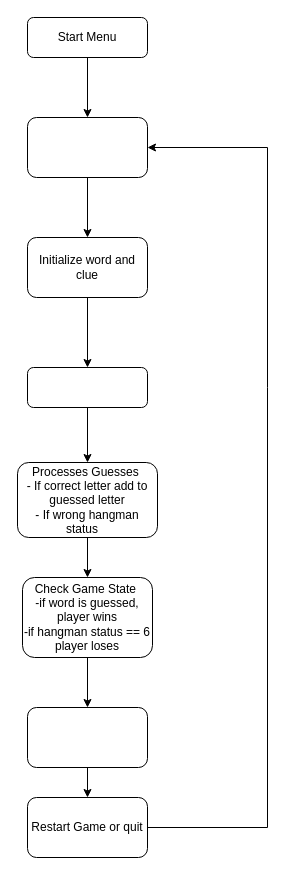
The diagram is 293 pixels wide and 875 high, and some of its shapes have lost their labels. Here are the shapes that lost their labels. From the top down, the box of each, then its label:
(26, 116, 148, 178): Select Difficulty Easy, Medium, hard
(26, 366, 148, 408): Game Loop
(26, 706, 148, 768): Show result message -You won or lost
